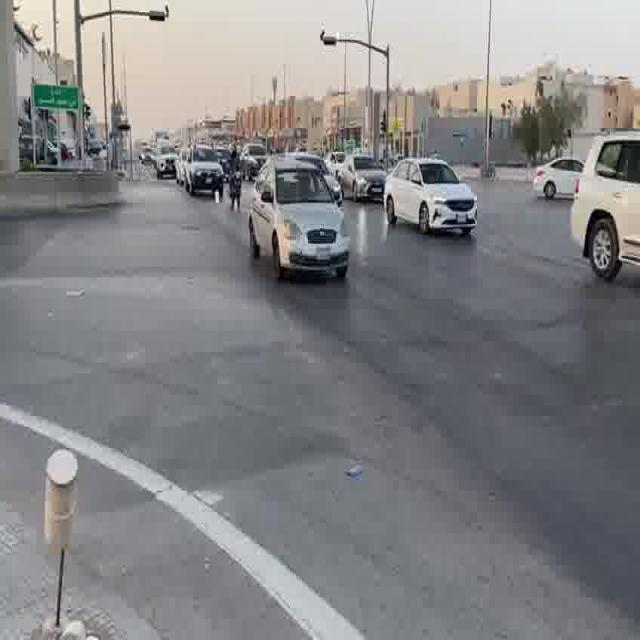bus: (250, 157, 351, 281), (570, 133, 640, 283), (383, 155, 481, 236), (177, 148, 226, 195), (341, 156, 390, 200), (536, 159, 583, 200), (356, 169, 387, 204), (156, 152, 179, 180)
car: (179, 209, 640, 640), (250, 157, 351, 281), (570, 133, 640, 283), (383, 155, 481, 236), (177, 148, 226, 195), (341, 156, 390, 200), (536, 159, 583, 200), (356, 169, 387, 204), (156, 152, 179, 180)
lanes: (179, 209, 640, 640), (226, 209, 639, 634)
lanes2: (226, 209, 639, 634), (260, 205, 640, 474)
lanes3: (260, 205, 640, 474), (286, 201, 640, 404)
lanes4: (286, 201, 640, 404), (327, 192, 640, 313)
lanes5: (327, 192, 640, 313)
